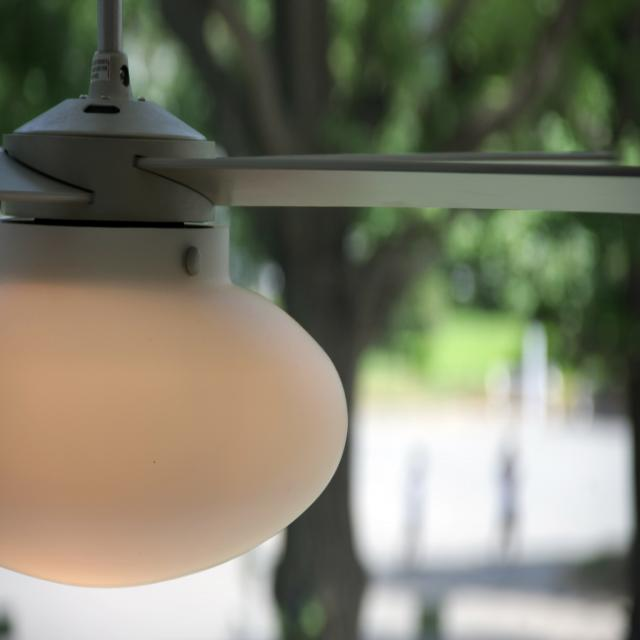Bulb: (0, 0, 640, 590)
